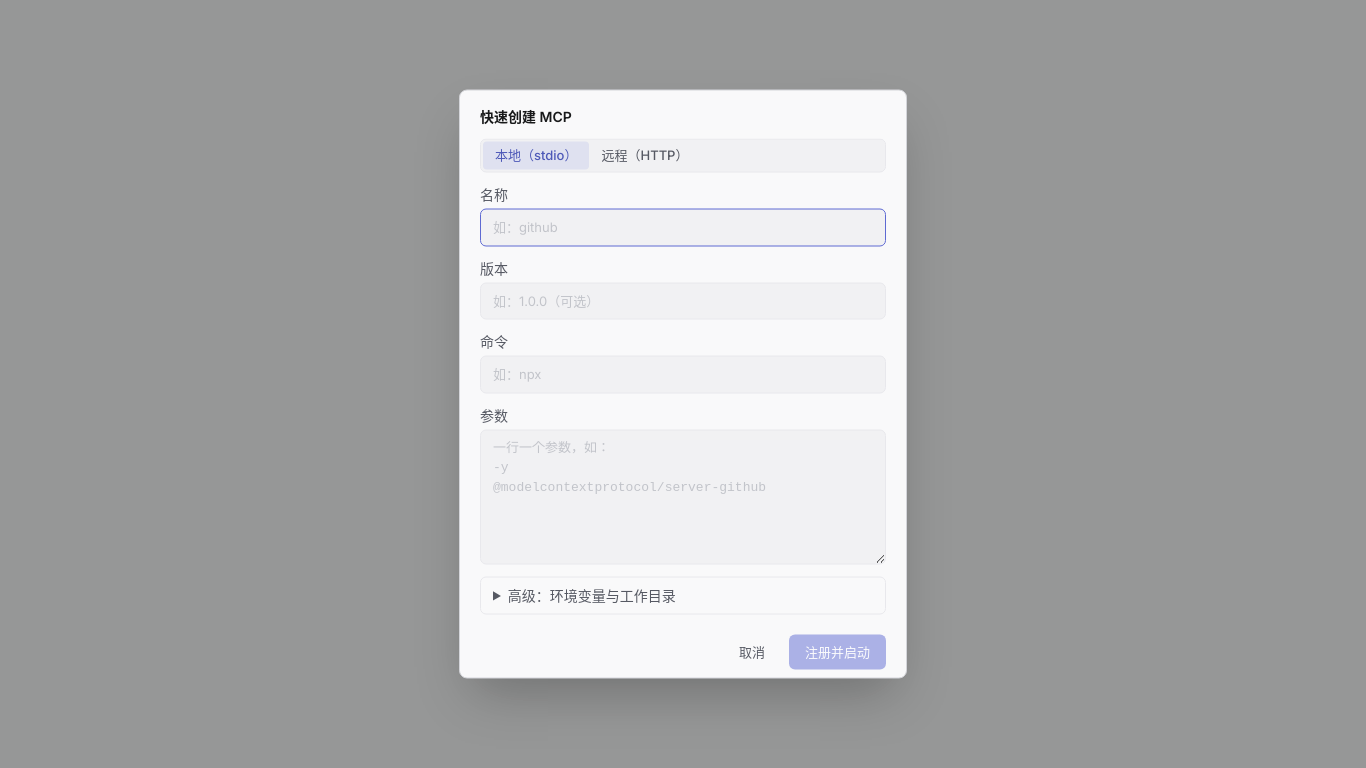
Test: RegisterMcpDialog — 快速创建 MCP：传输二态 › 远程态 URL 非 http(s)（如 ftp）→ 提交 disabled + 错误提示
Click the radio button labelled "远程（HTTP）" at (645,156), box x1=590 y1=142 x2=700 y2=170
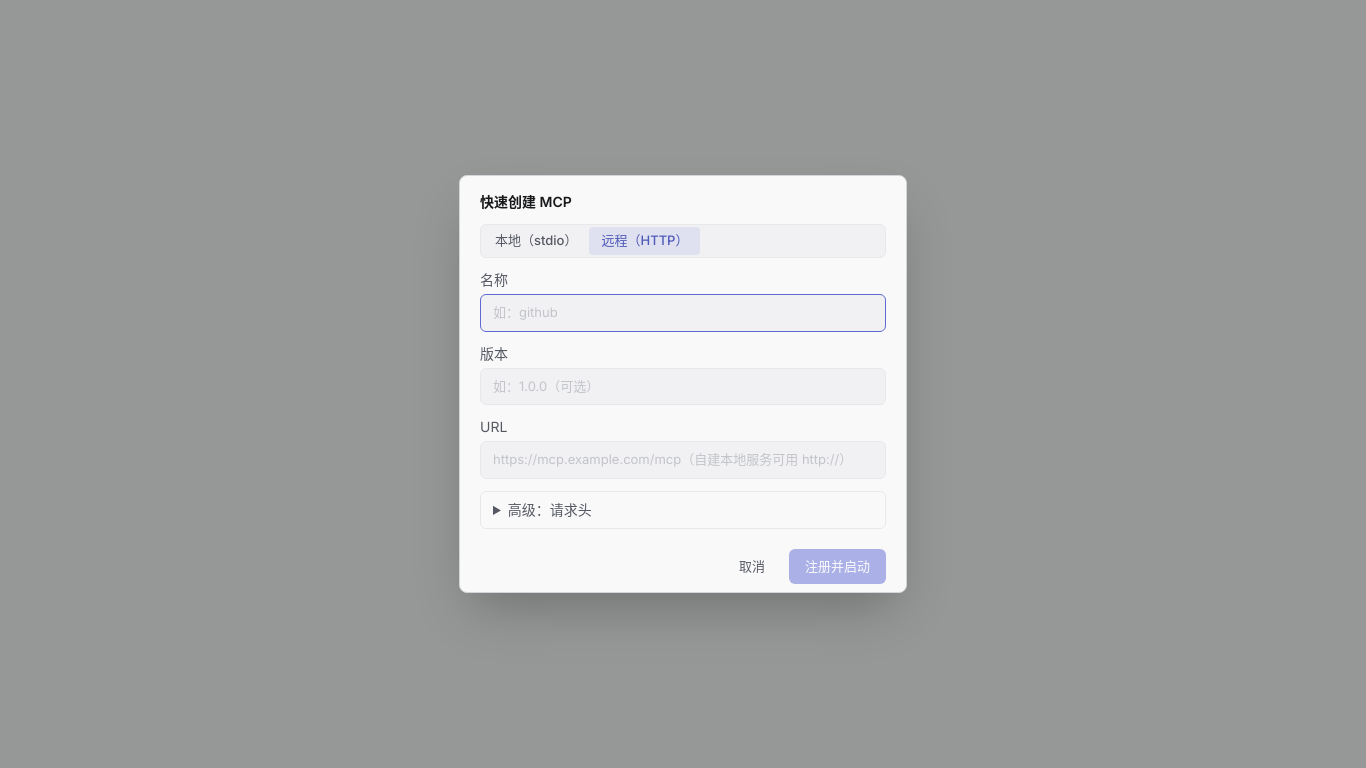
Type "m" into the field labelled "名称" at (683,313), box x1=480 y1=294 x2=886 y2=332
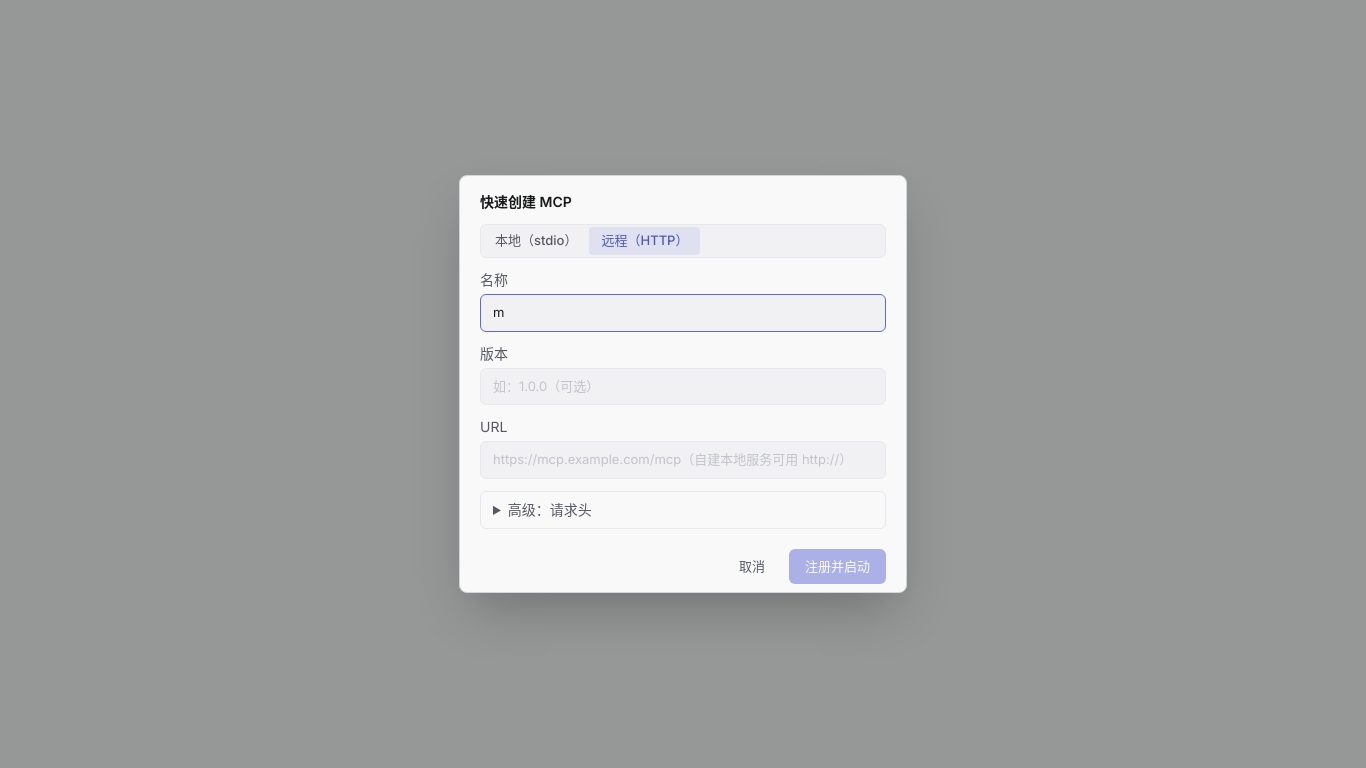
Type "ftp://x.example.com" into the field labelled "URL" at (683,460), box x1=480 y1=441 x2=886 y2=478
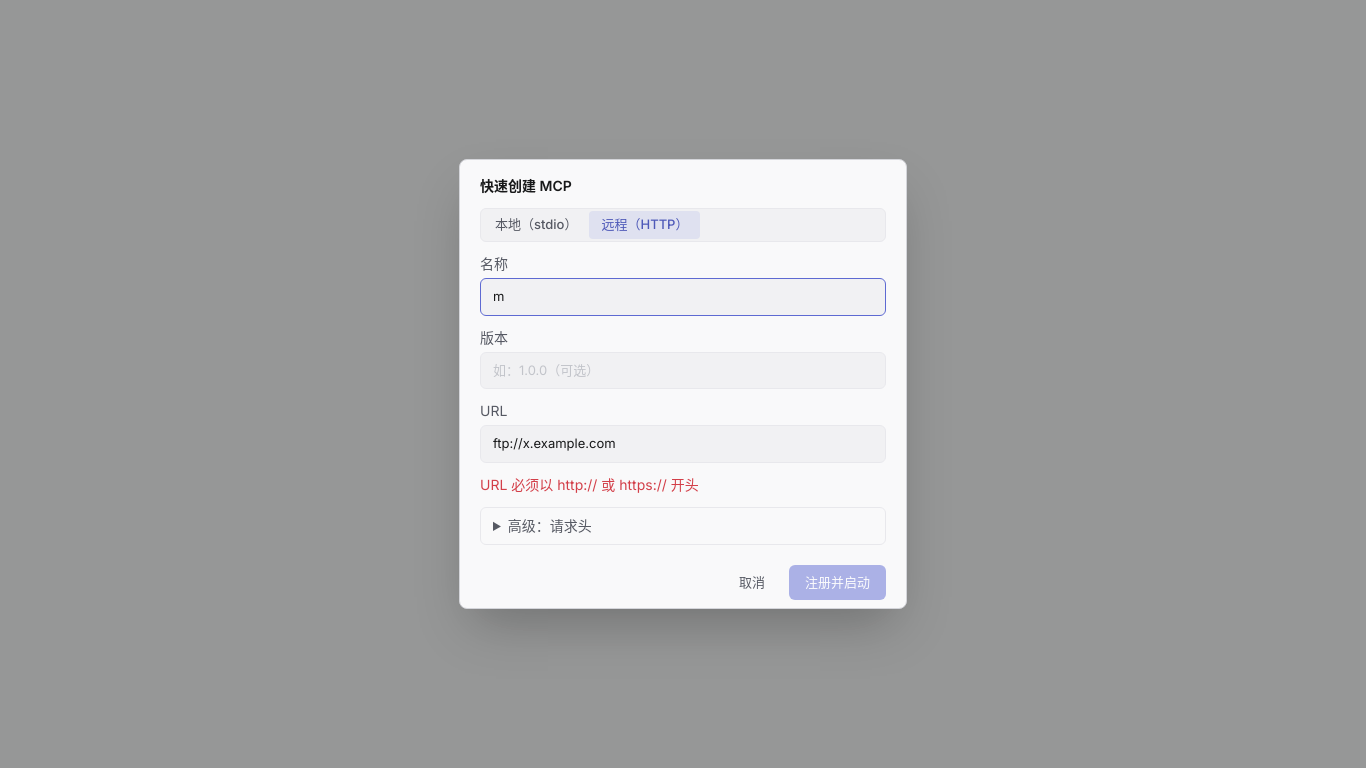
Expected: the button "注册并启动" is disabled, x1=789 y1=564 x2=886 y2=600
Now the text "URL 必须以 http:// 或 https:// 开头" is shown, box x1=480 y1=476 x2=699 y2=492
